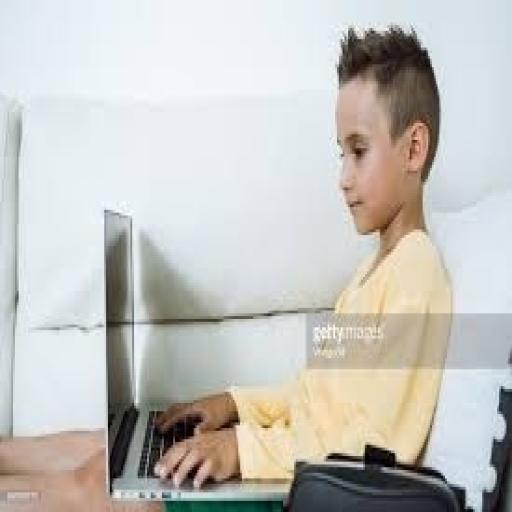using_laptop: (101, 204, 294, 504)
